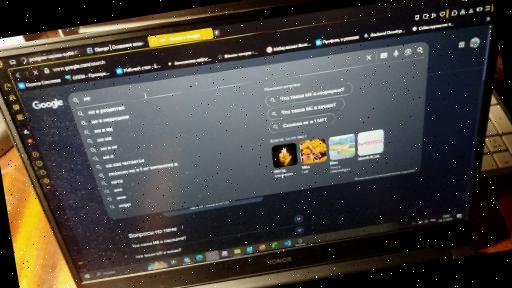google: (8, 0, 512, 279)
